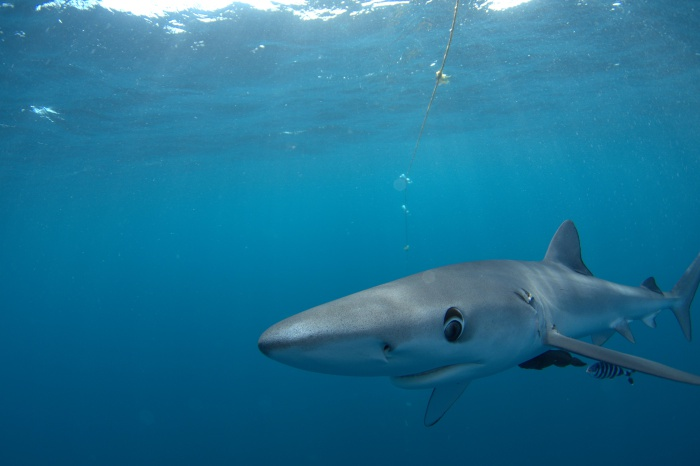Azul: (189, 190, 700, 443)
